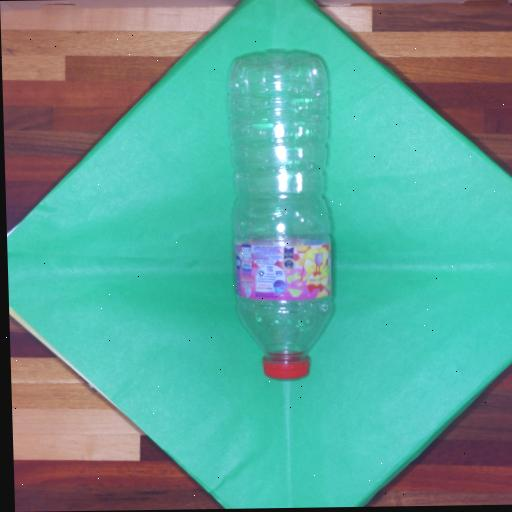bottle: (229, 54, 331, 377)
